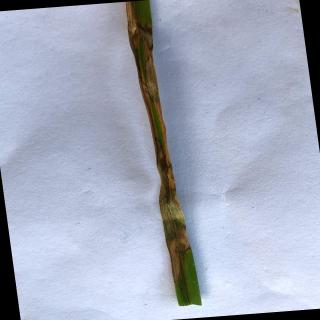Hawar-Daun: (122, 0, 193, 280)
